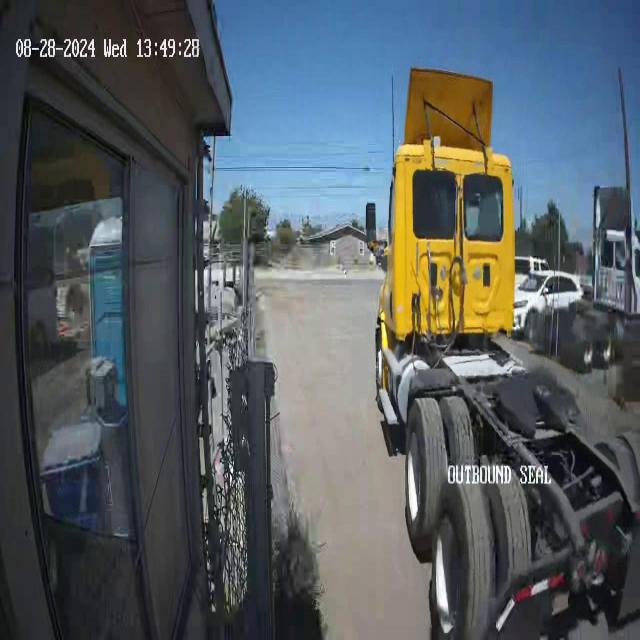TRUCK_OUT: (373, 65, 639, 637)
